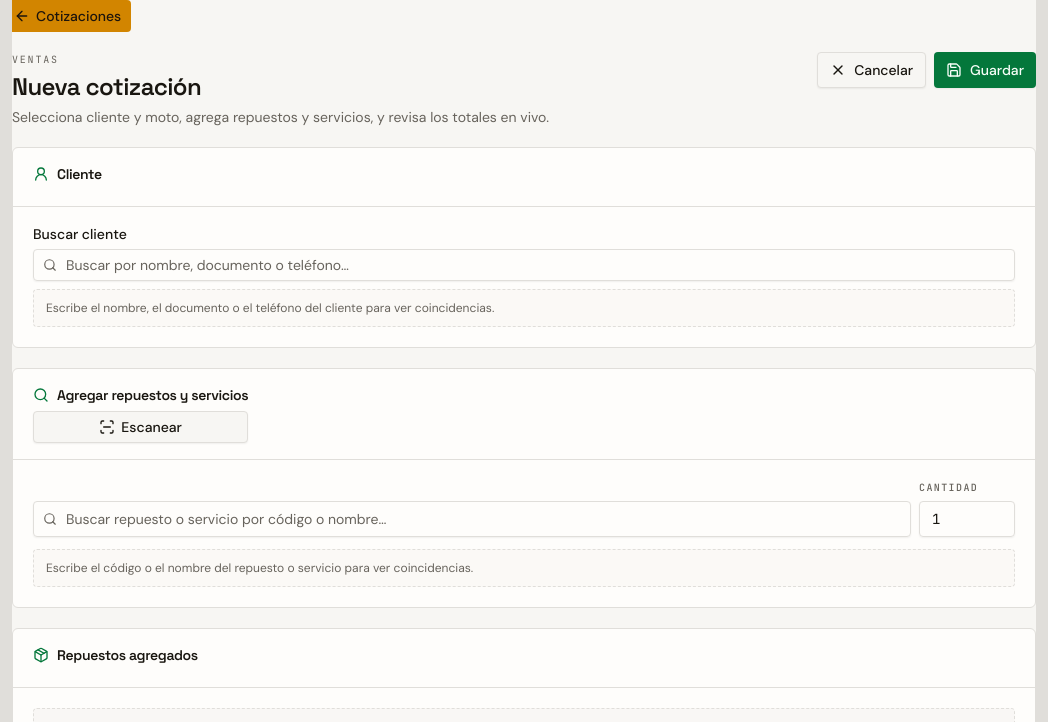
Scenario: QuoteDetailPage new-quote pickers › autocompletes a part line's price from the catalog
Expected: the heading "Nueva cotización" is shown, [12, 71, 201, 102]
In the search field with test id "quote_detail.item_search_input": (472, 519) [33, 501, 911, 537], type "balata"
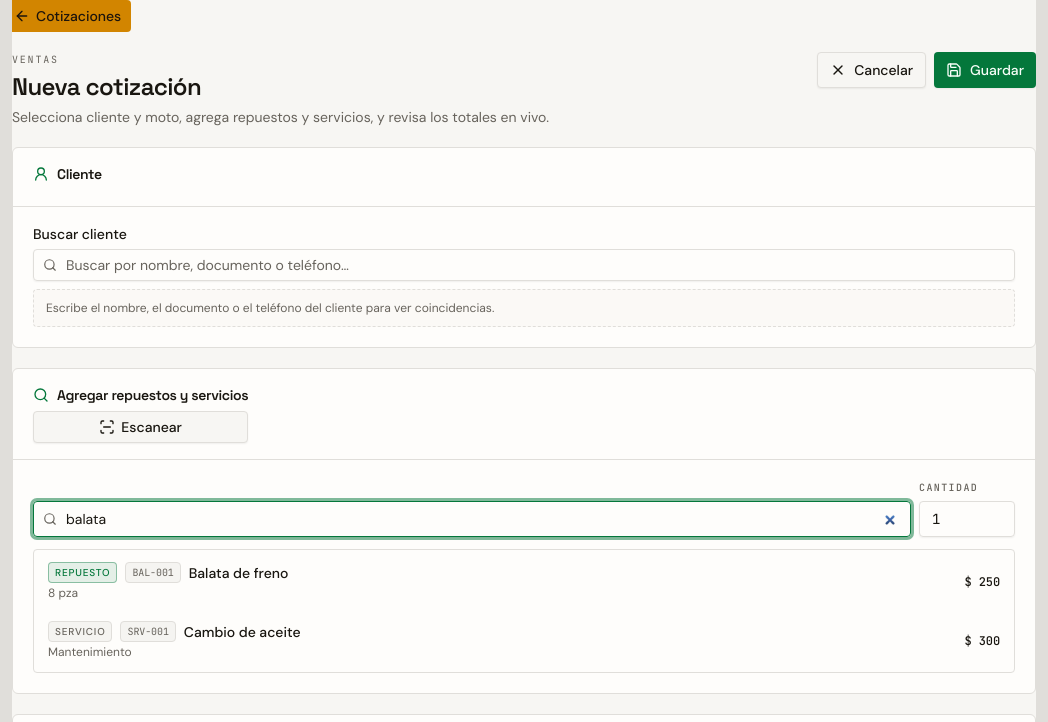
Click the button with test id "quote_detail.item_search.item.1": (83, 572) [38, 554, 1010, 609]
(page scrolled)
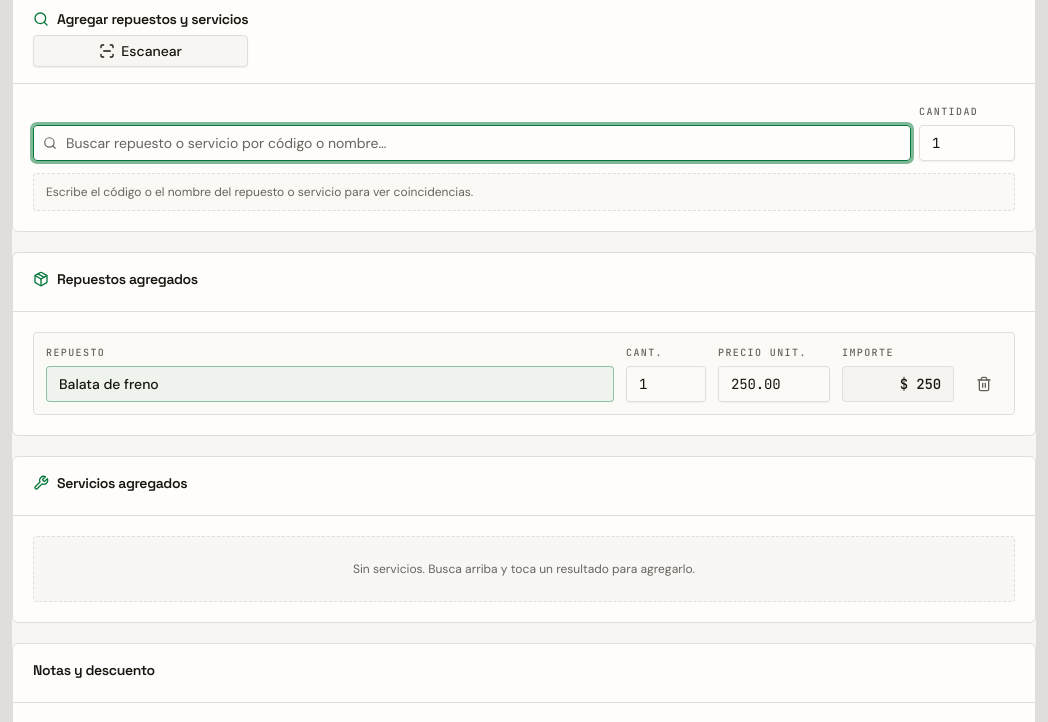
Expected: the element with test id "quote_detail.part_selected.1" reads "Balata de freno", [59, 375, 159, 393]
Expected: the number field with test id "quote_detail.part_price_input.1" holds "250", [718, 366, 830, 402]
